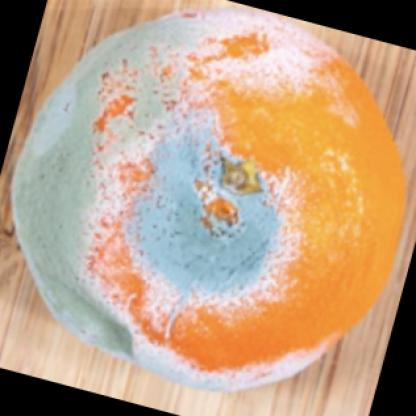rotten: (11, 7, 407, 396)
